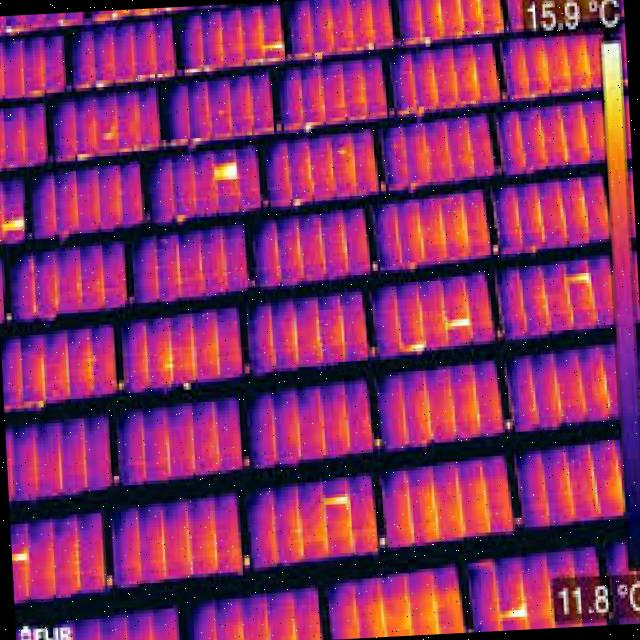Hotspot: (323, 486, 356, 512), (396, 334, 434, 356), (534, 44, 552, 90), (206, 159, 238, 184), (578, 38, 594, 85), (500, 600, 528, 621), (569, 269, 597, 290), (559, 46, 571, 90), (468, 64, 482, 94), (450, 315, 473, 333), (2, 220, 30, 234), (455, 0, 465, 39), (164, 351, 176, 381), (262, 38, 285, 52), (435, 0, 444, 33), (472, 0, 484, 24), (12, 550, 29, 564), (93, 76, 109, 90), (100, 130, 116, 144), (74, 80, 92, 92), (74, 150, 92, 161), (301, 122, 314, 136), (175, 214, 188, 226), (292, 195, 303, 206)
